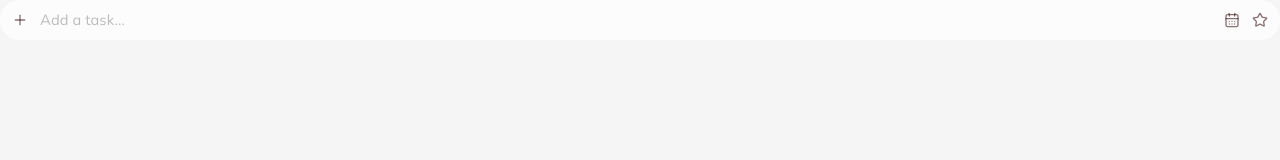
it: QuickAddTask › adds task on plus button click
The width and height of the screenshot is (1280, 160).
Type "Another task" into the field with placeholder "Add a task...".
click(626, 20); type("Another task")  # box [36, 10, 1216, 30]
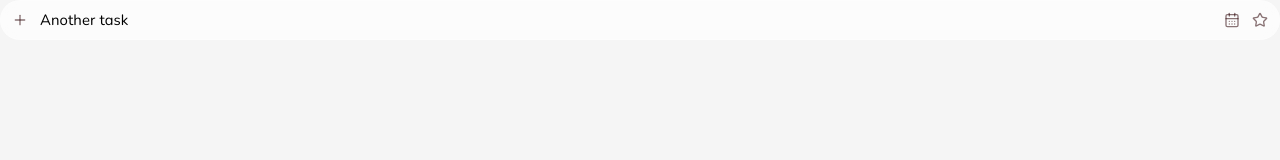
Click the button named "Add task".
click(20, 20)  # box [8, 8, 32, 32]
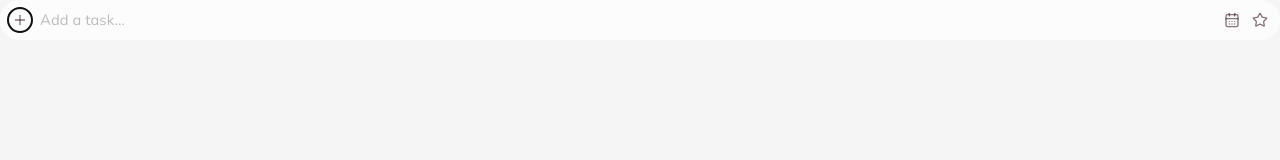
Now the field with placeholder "Add a task..." is empty, box [36, 10, 1216, 30]
